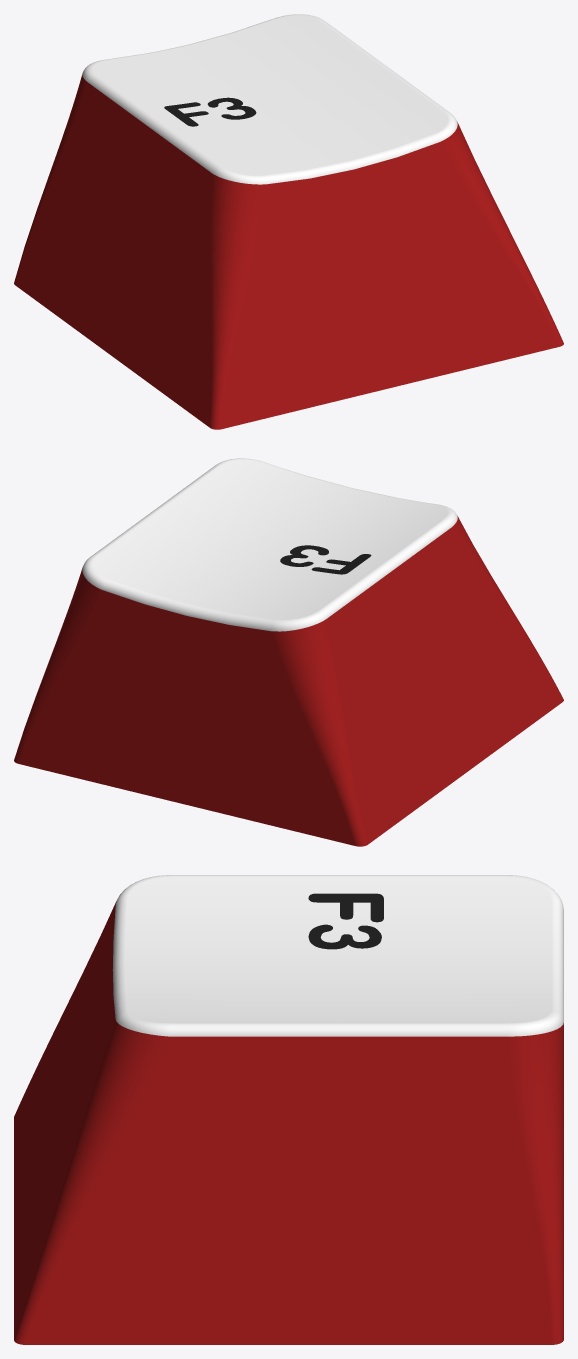
The picture shows the model from 3 angles, top to bottom: view 1: azimuth 30°, elevation 25°; view 2: azimuth 150°, elevation 25°; view 3: azimuth 270°, elevation 25°; orthographic projection. The views are drawn at different scales.
Parts seen in each view (by area): view 1: Body1; view 2: Body1; view 3: Body1.
Part boxes in pixels (<box>): Body1: <box>14,14,563,429</box>; Body1: <box>14,458,563,846</box>; Body1: <box>14,875,563,1344</box>.
Bounding box in the file's own units: 18 × 10.07 × 18.
